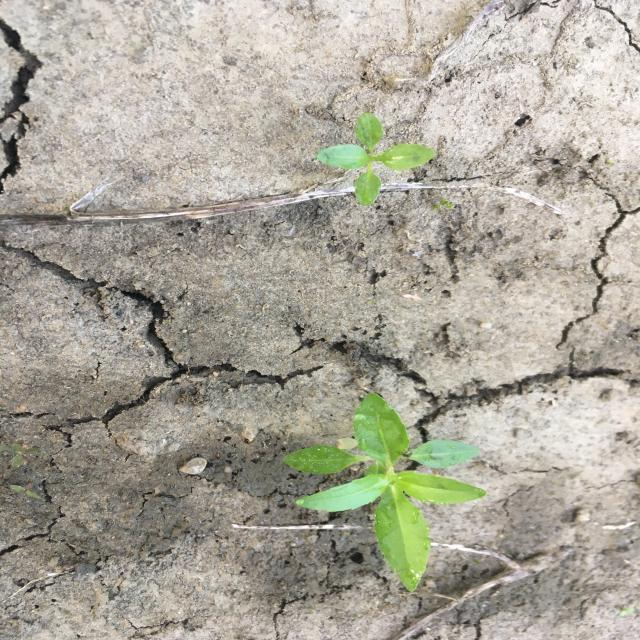Eclipta: (278, 390, 490, 593), (312, 111, 442, 210)
